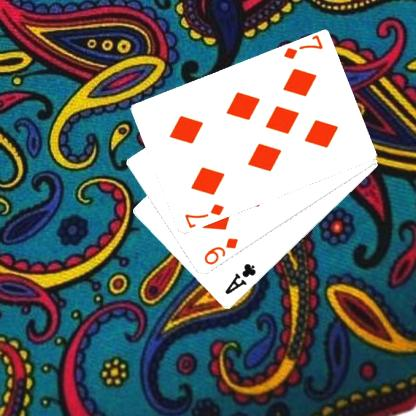7D: (182, 201, 226, 228), (280, 35, 324, 62)
9D: (201, 235, 239, 267)
AC: (222, 261, 257, 296)
